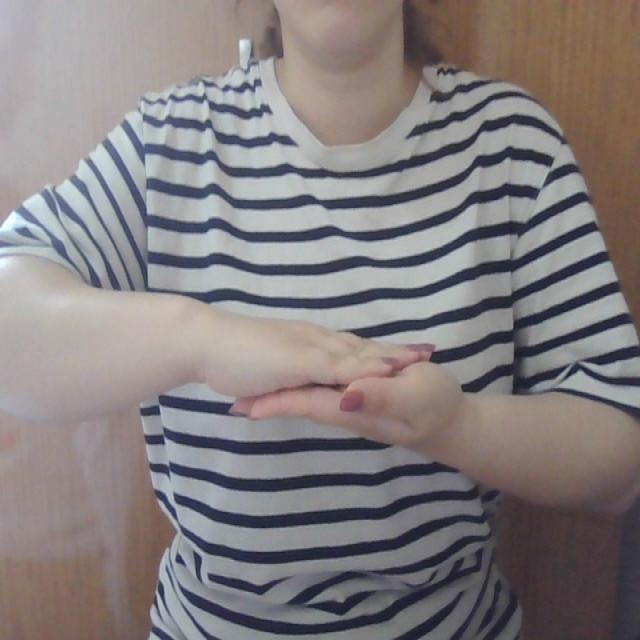Arkadas: (169, 293, 570, 461)
